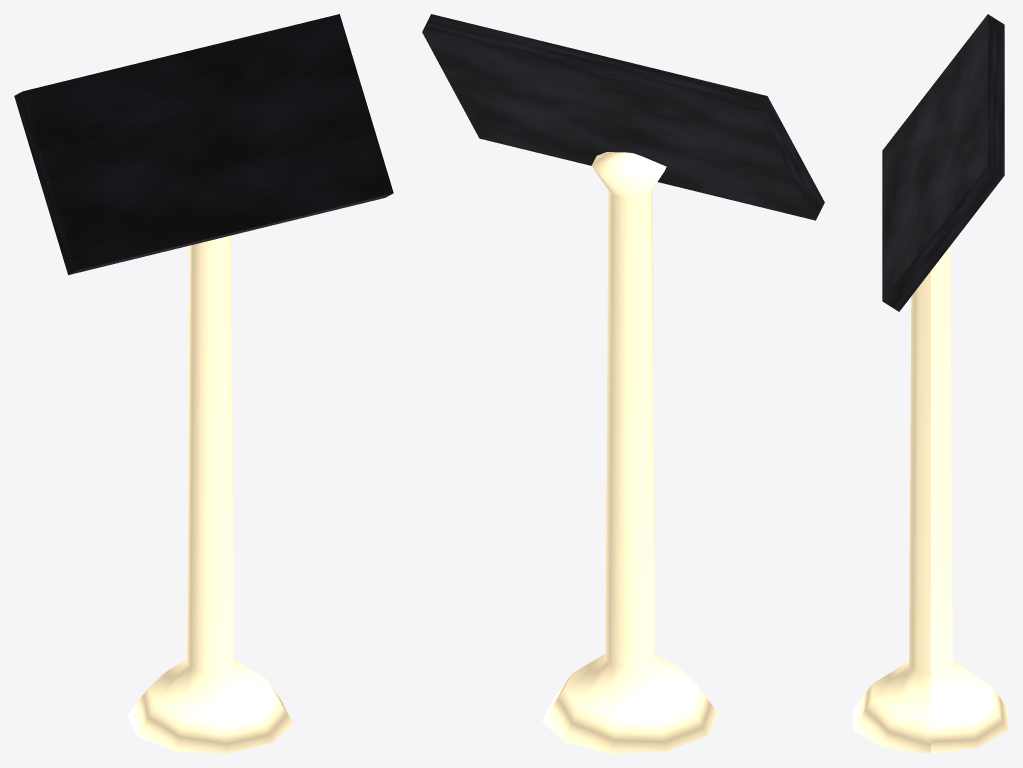
File: mw_setname_stand.glb
3 views of the same model, side by side, from view 1: azimuth 30°, elevation 25°; view 2: azimuth 150°, elevation 25°; view 3: azimuth 270°, elevation 25° (orthographic). The views are drawn at different scales.
Parts seen in each view (by area): view 1: stand; view 2: stand; view 3: stand.
Part boxes in pixels (x1,y1,x2,y2): stand: [14, 14, 393, 753]; stand: [422, 14, 824, 753]; stand: [853, 14, 1008, 753].
Size of the model in its own units: 0.7 by 1.36 by 0.3043.
Materials: 2 (1 with a texture image).
